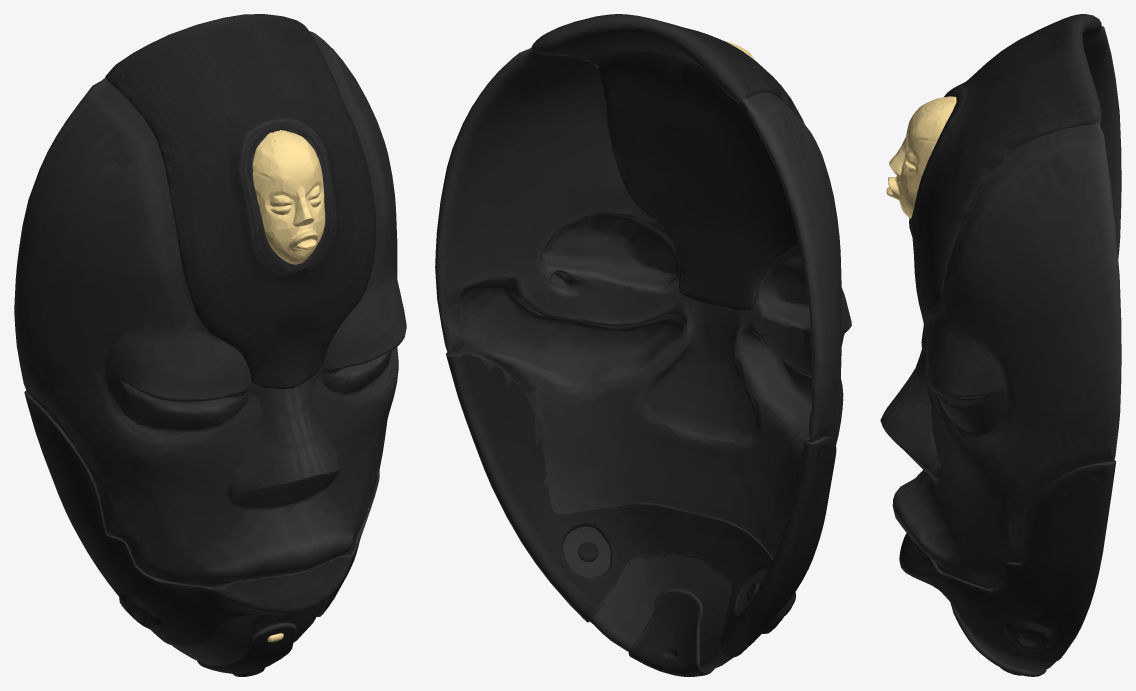
File: mask1.glb
3 views of the same model, side by side, from view 1: azimuth 30°, elevation 25°; view 2: azimuth 150°, elevation 25°; view 3: azimuth 270°, elevation 25° (orthographic). The views are drawn at different scales.
Visible parts, largest first — view 1: PM3D_AFRICAN_MASK_7, Extract7, Extract2_2.001, Face2, Extract3_2; view 2: PM3D_AFRICAN_MASK_7, Extract7, Extract2_2.001, Extract3_2; view 3: PM3D_AFRICAN_MASK_7, Extract7, Extract2_2.001, Face2, Extract3_2.
Part boxes in pixels (x1,y1,x2,y2): PM3D_AFRICAN_MASK_7: (14, 31, 406, 664); Extract7: (105, 14, 376, 389); Extract2_2.001: (24, 390, 387, 647); Face2: (252, 130, 325, 264); Extract3_2: (197, 622, 297, 676); PM3D_AFRICAN_MASK_7: (435, 47, 851, 670); Extract7: (531, 14, 804, 310); Extract2_2.001: (446, 352, 836, 657); Extract3_2: (628, 588, 714, 676); PM3D_AFRICAN_MASK_7: (880, 26, 1121, 672); Extract7: (909, 14, 1101, 352); Extract2_2.001: (899, 460, 1116, 663); Face2: (886, 96, 956, 218); Extract3_2: (950, 603, 1046, 676).
Bounding box in the file's own units: 1.21 × 2 × 0.6838.
Materials: 6 (6 with a texture image).
